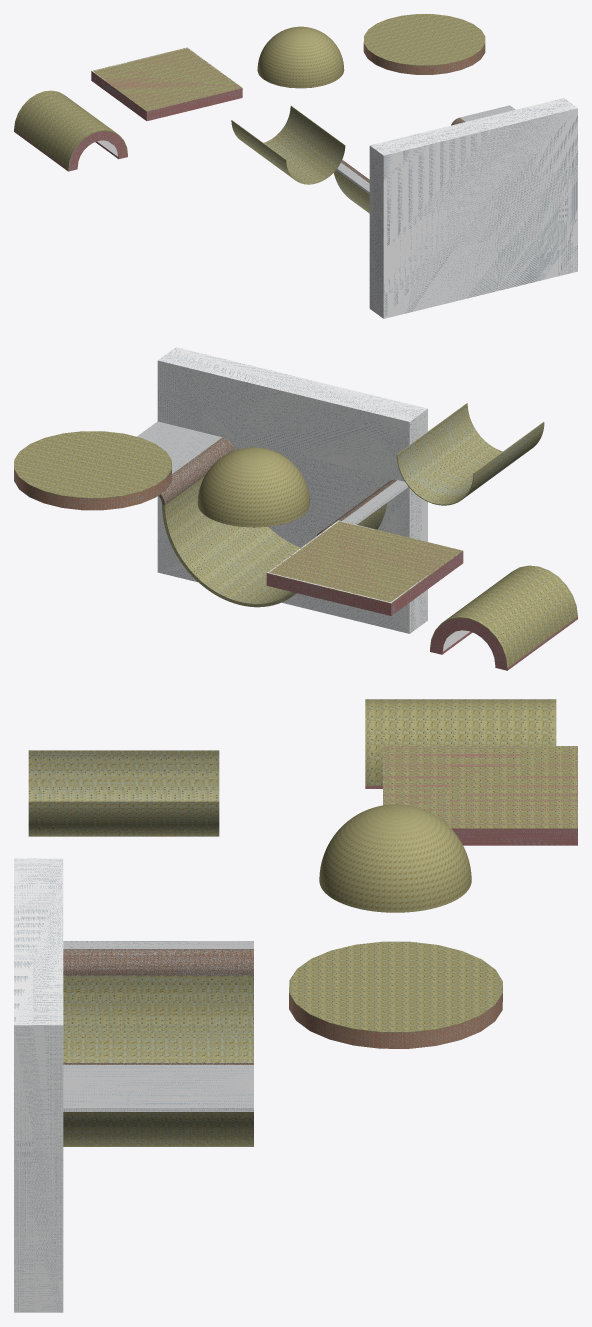
Rendered from multipleObjWithWalls2.dae.
3 renders of one model, top to bottom at view 1: azimuth 30°, elevation 25°; view 2: azimuth 150°, elevation 25°; view 3: azimuth 270°, elevation 25°, orthographic. The views are drawn at different scales.
Parts seen in each view (by area): view 1: SketchUp (×2), group_2, group_1, group_11, group_0, group_9, group_3, group_4, group_5; view 2: SketchUp (×5), group_2, group_1, group_11, group_0, group_9, group_3, group_4, group_7; view 3: SketchUp (×5), group_11, group_1, group_2, group_0, group_9, group_4, group_3.
Part boxes in pixels (x1=…): SketchUp (×2): x1=334, y1=98, x2=577, y2=318; group_2: x1=91, y1=47, x2=242, y2=111; group_1: x1=363, y1=14, x2=485, y2=65; group_11: x1=231, y1=105, x2=345, y2=184; group_0: x1=257, y1=26, x2=344, y2=88; group_9: x1=14, y1=90, x2=127, y2=169; group_3: x1=91, y1=71, x2=242, y2=120; group_4: x1=363, y1=43, x2=485, y2=74; group_5: x1=69, y1=131, x2=127, y2=169; SketchUp (×5): x1=137, y1=347, x2=427, y2=633; group_2: x1=266, y1=521, x2=462, y2=603; group_1: x1=14, y1=431, x2=171, y2=498; group_11: x1=396, y1=403, x2=544, y2=505; group_0: x1=197, y1=447, x2=309, y2=527; group_9: x1=430, y1=565, x2=577, y2=668; group_3: x1=266, y1=551, x2=463, y2=615; group_4: x1=14, y1=463, x2=171, y2=510; group_7: x1=431, y1=618, x2=506, y2=667; SketchUp (×5): x1=14, y1=858, x2=253, y2=1312; group_11: x1=28, y1=750, x2=219, y2=836; group_1: x1=289, y1=941, x2=502, y2=1032; group_2: x1=383, y1=746, x2=577, y2=828; group_0: x1=319, y1=804, x2=471, y2=912; group_9: x1=365, y1=699, x2=556, y2=785; group_4: x1=289, y1=986, x2=502, y2=1048; group_3: x1=452, y1=829, x2=577, y2=845.
Bounding box in the file's own units: 4383 × 2914 × 2031.
